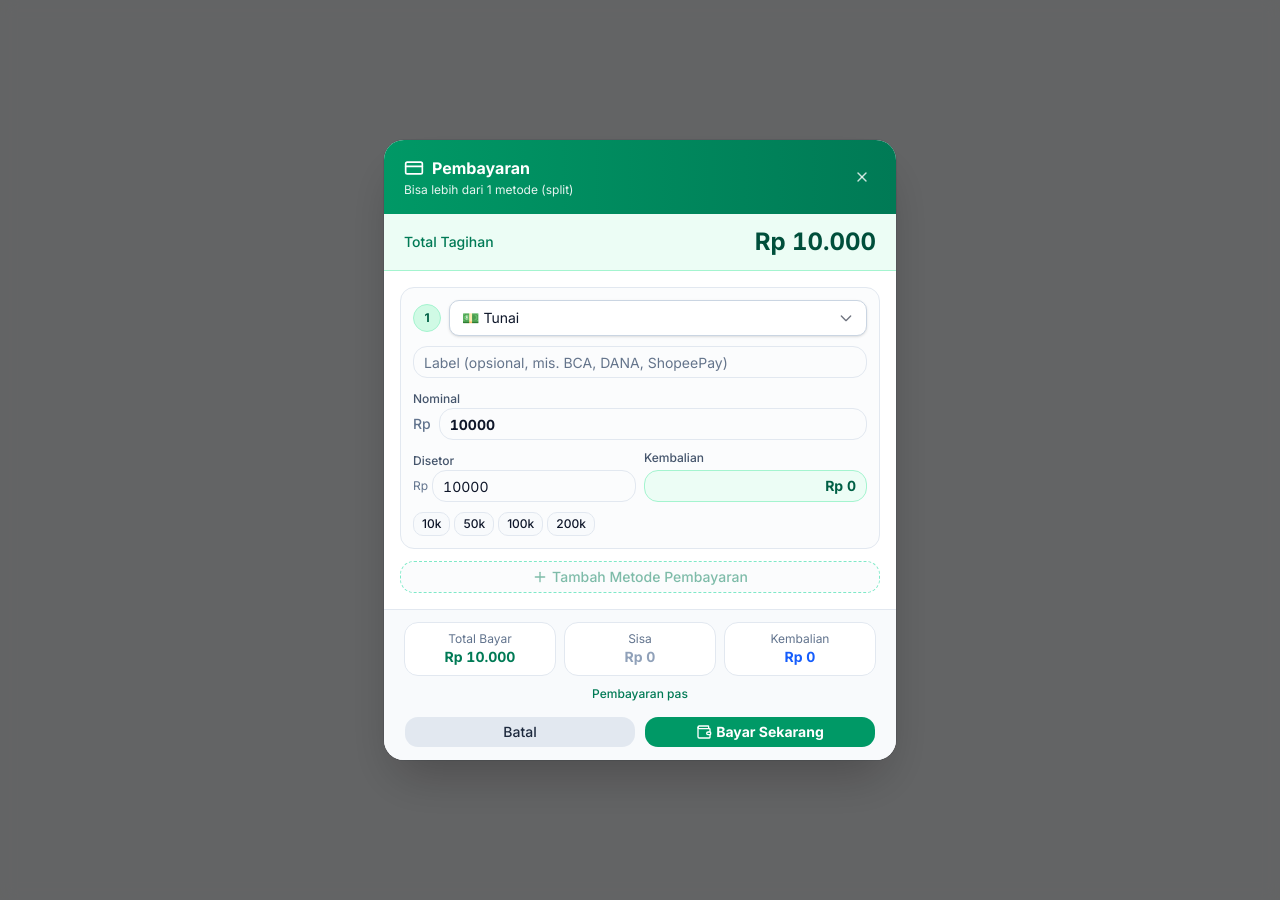
Test: PaymentForm.svelte (component test) › renders all 6 payment method options in Select
Click the dropdown labelled "💵 Tunai".
click(491, 318)  # box [449,300,867,336]
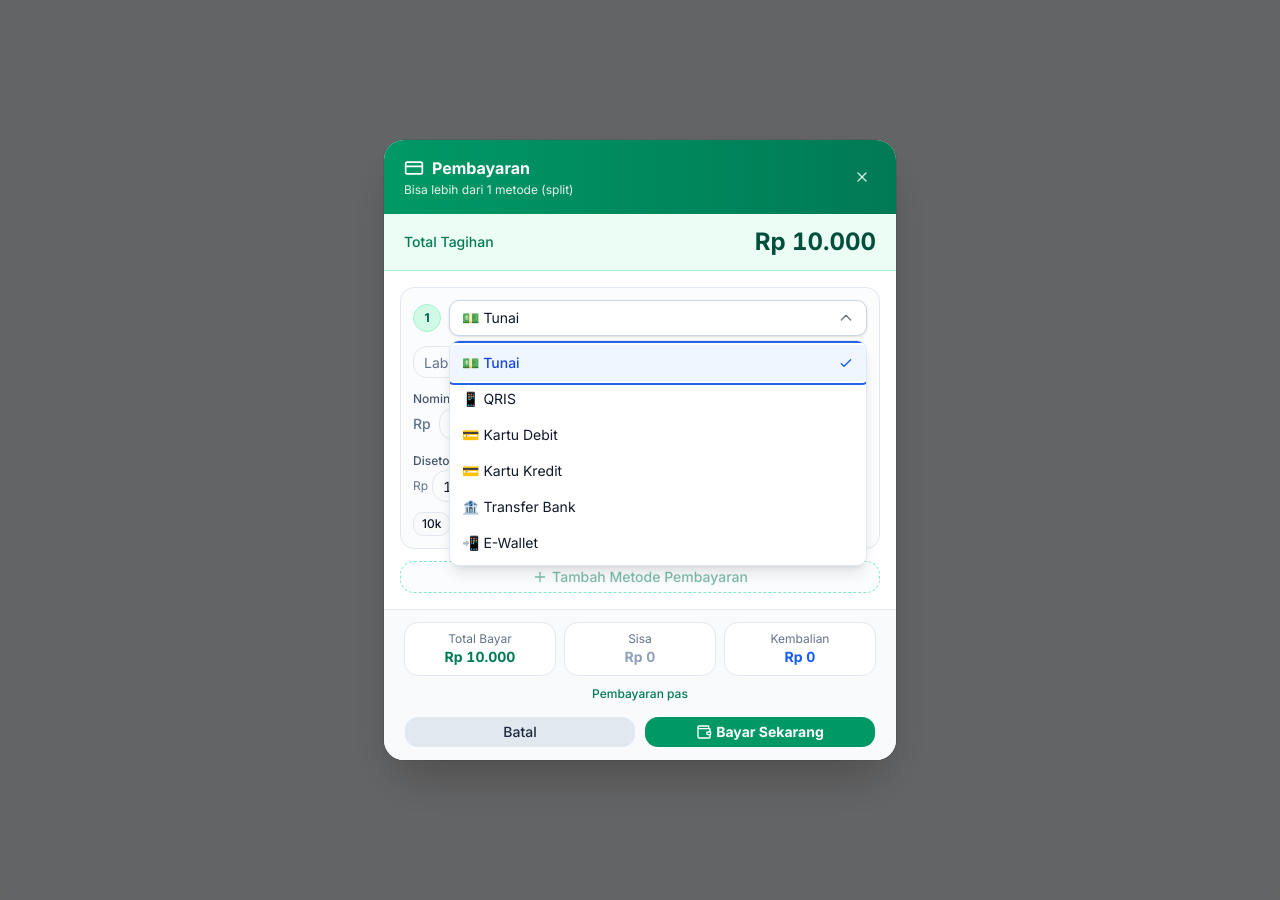
Expected: the number of options is 6, [450,345,866,381]; [462,390,516,407]; [462,426,558,443]; [462,462,562,479]; [462,498,576,515]; [462,534,538,551]
